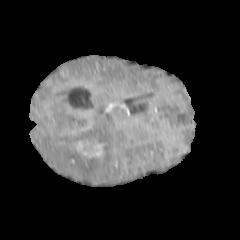glioma: (41, 107, 127, 181)
